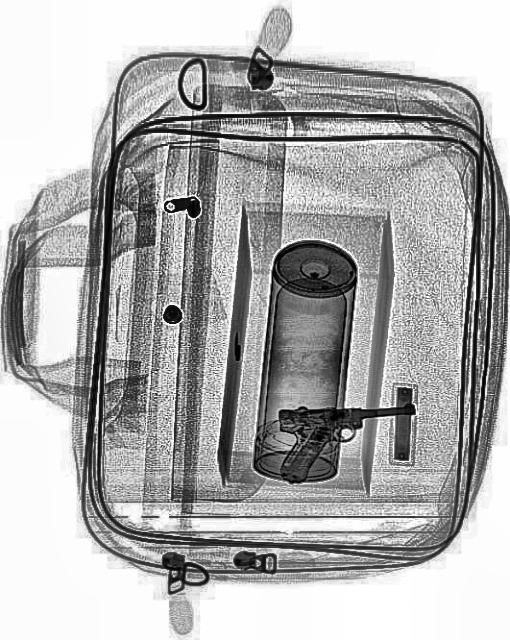Gun: (275, 402, 415, 483)
